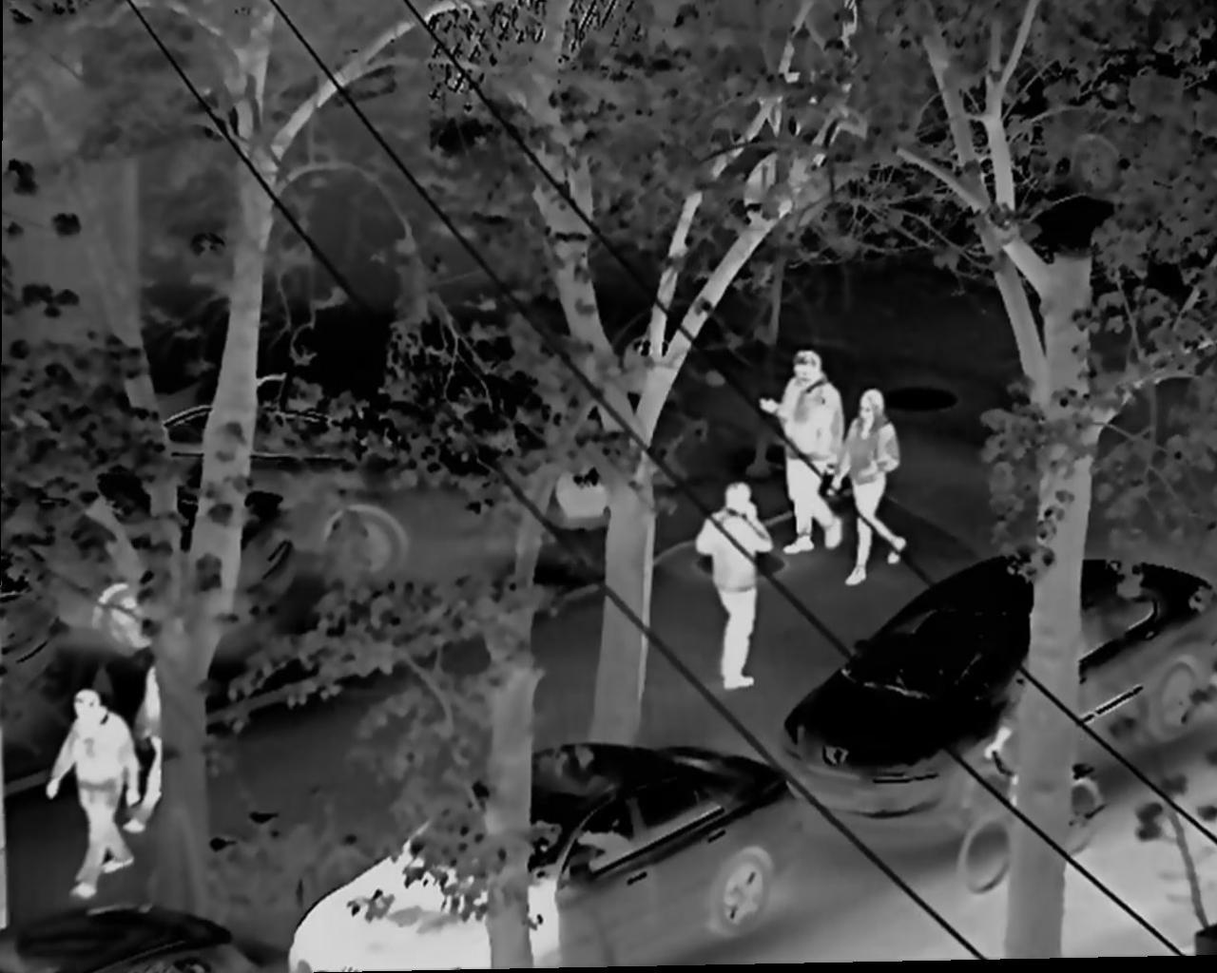person: (44, 689, 141, 898), (760, 346, 846, 560), (696, 478, 767, 688), (839, 388, 908, 587), (123, 656, 202, 829)
